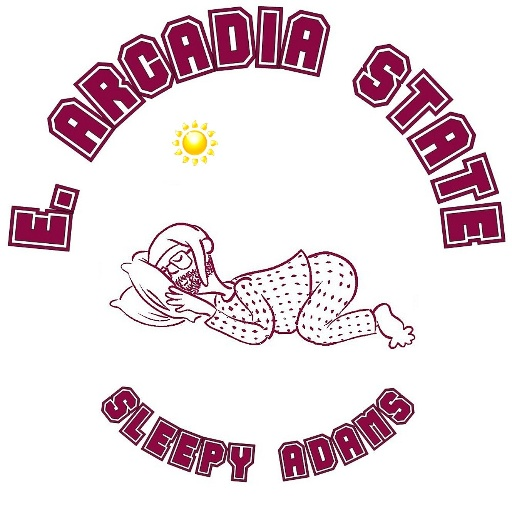hand: (164, 286, 212, 316)
